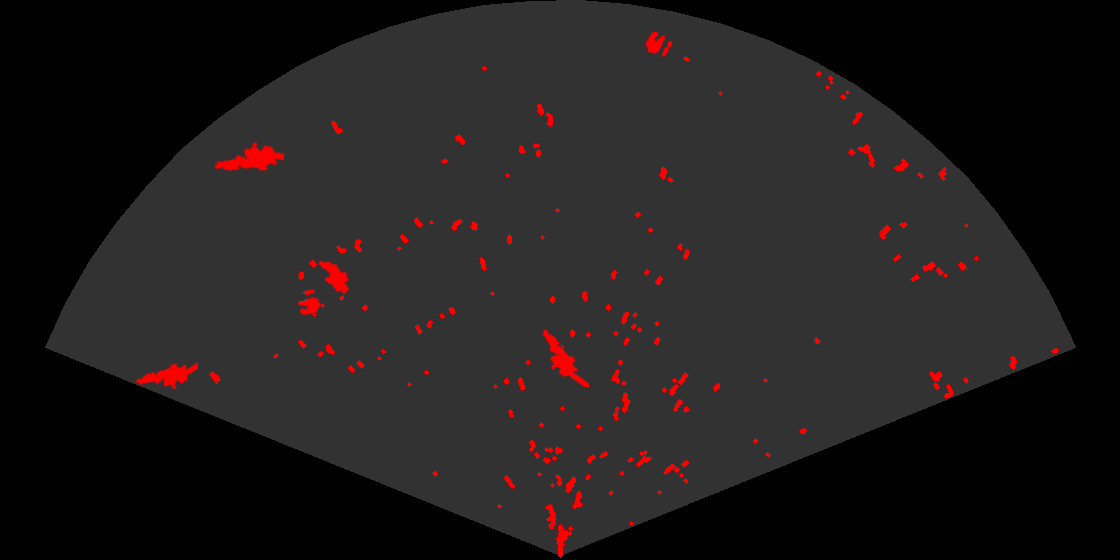AUV: (317, 259, 351, 296)
ball: (644, 29, 674, 59), (295, 288, 322, 317)
frogman: (541, 328, 589, 387), (212, 140, 284, 173), (134, 361, 198, 391)
